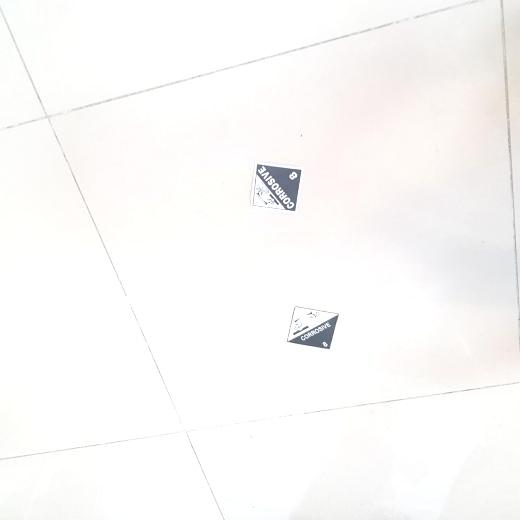corrosive: (248, 161, 305, 214), (286, 305, 341, 351)
